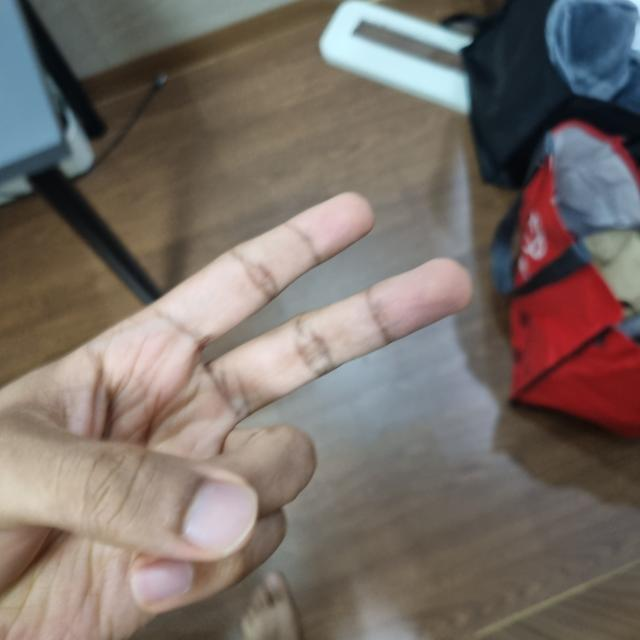Scissors: (15, 194, 469, 636)
